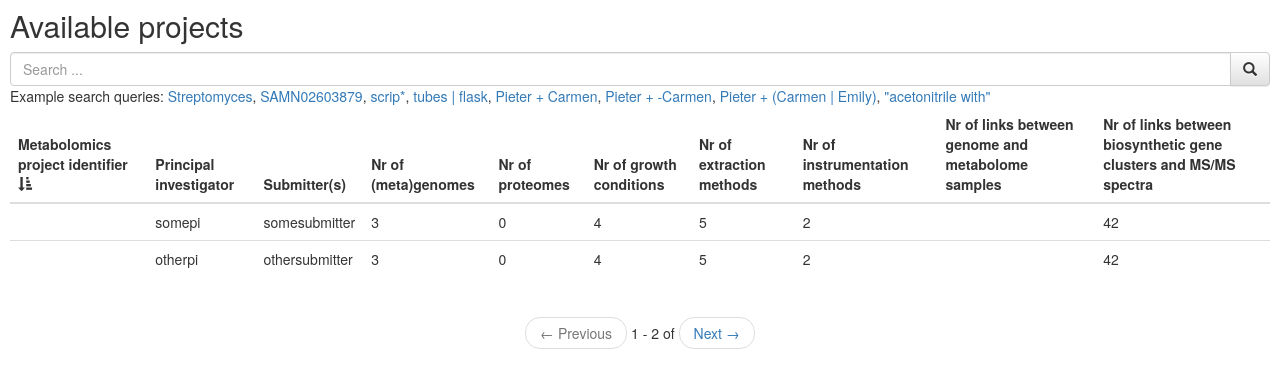
Test: <Projects> › with 2 projects loaded › when `foobar` is put in search box › when search is submitted › when clear search button is pressed › should have `` in search box
Type "foobar" into the field with placeholder "Search ..." at x=620, y=69, box [10, 52, 1231, 86]
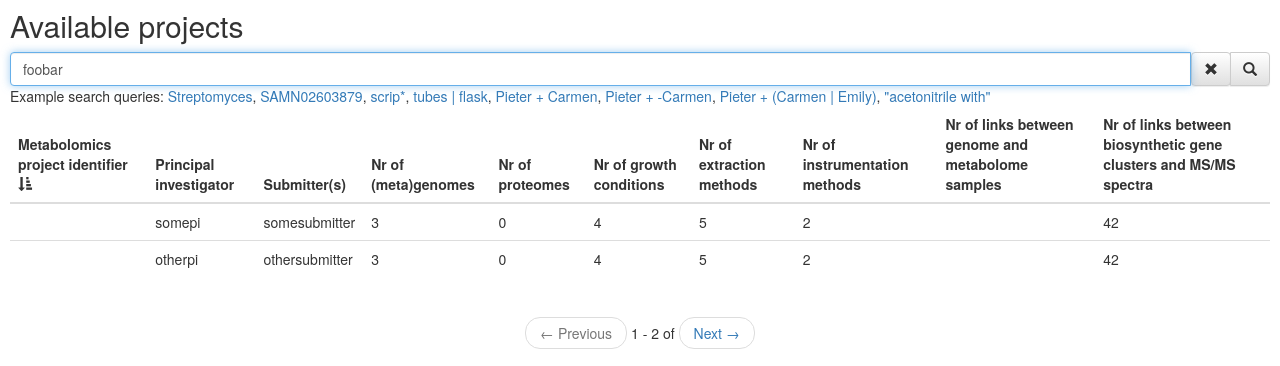
Click the button titled "Search" at x=1250, y=69, box [1230, 52, 1270, 86]
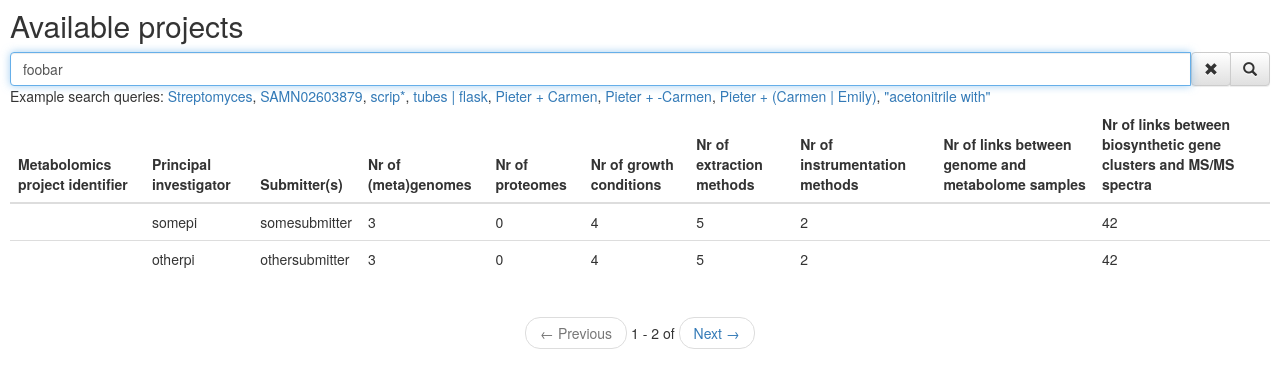
Click the button titled "Clear" at x=1211, y=69, box [1191, 52, 1231, 86]
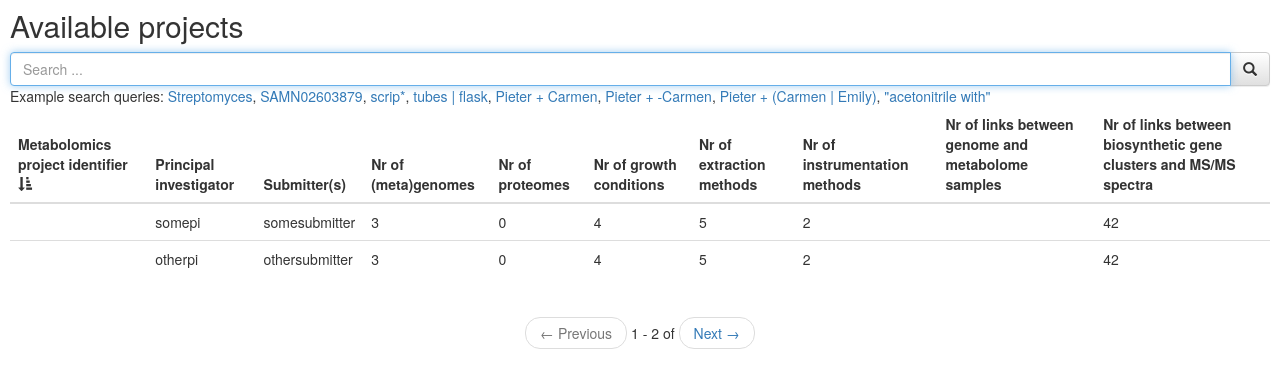
Expected: the field with placeholder "Search ..." is empty, [10, 52, 1231, 86]
